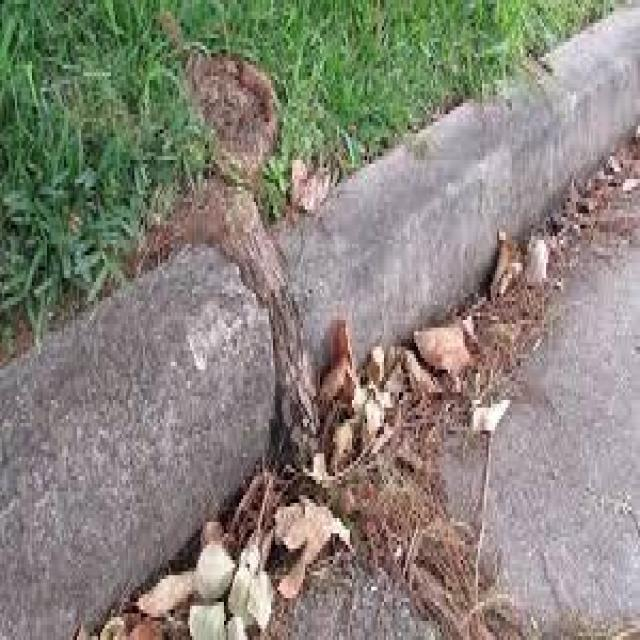curb: (1, 181, 317, 640), (334, 1, 637, 354)
